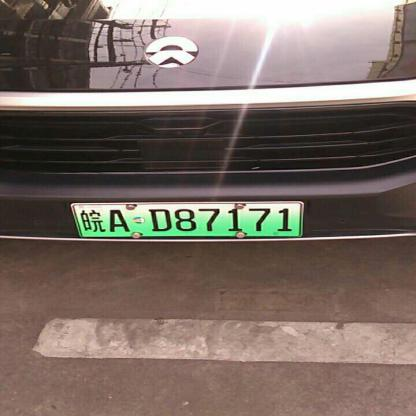lp: (74, 204, 300, 236)
